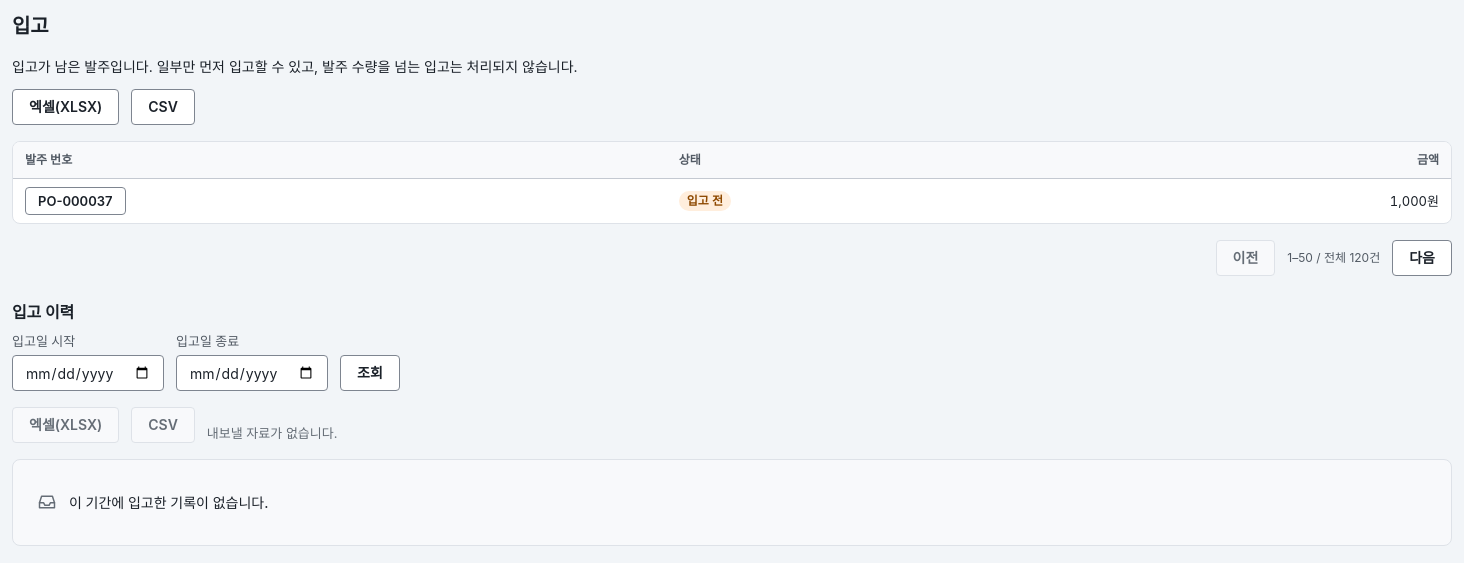
Test: 입고 대기 발주 쪽 이동 › open,partial 을 한 번에 조회하고 전체가 한 쪽을 넘으면 쪽 이동으로 다음 쪽(offset)을 부른다
Expected: the text "1–50 / 전체 120건" is shown, [1287,248,1380,266]
Click the button "다음": (1422, 258) [1392,240,1452,276]
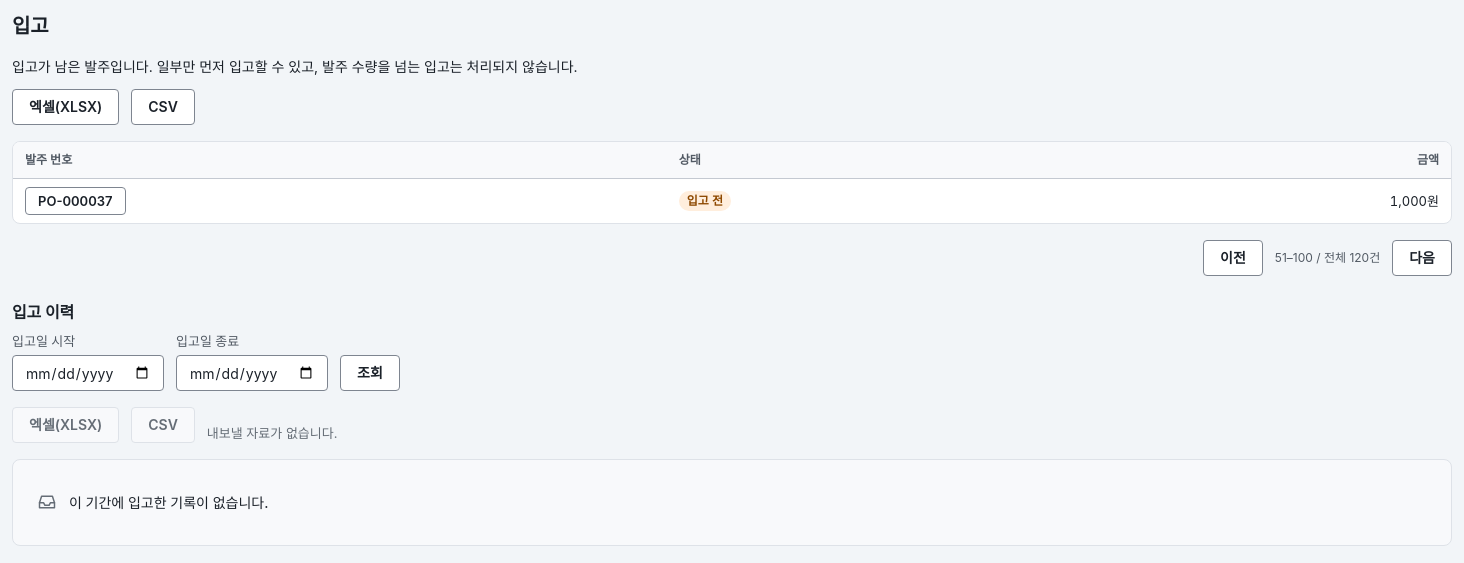
Result: the text "51–100 / 전체 120건" is shown at [1275,248,1380,266]
